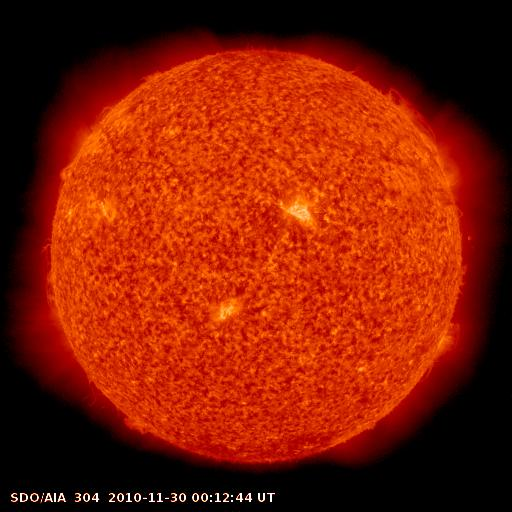prominence: (377, 73, 447, 143), (417, 313, 476, 384), (28, 228, 64, 321), (118, 407, 158, 447), (451, 258, 480, 302), (133, 63, 172, 90), (89, 100, 122, 129), (52, 156, 78, 186)
